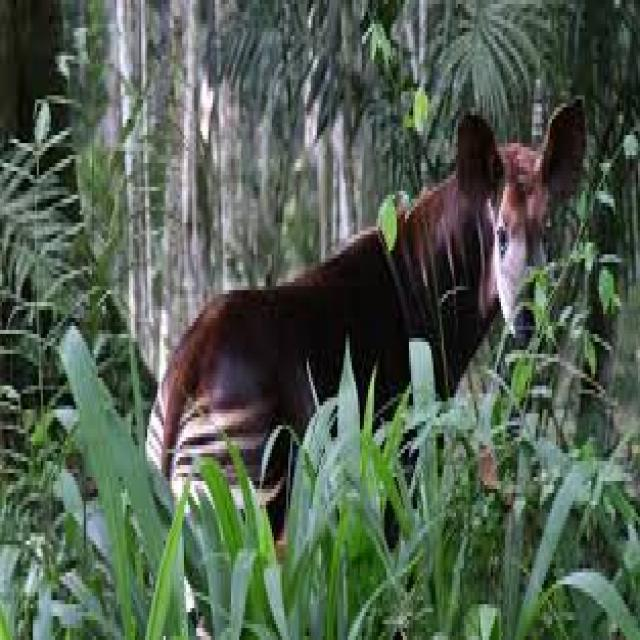Okapi: (138, 97, 592, 611)
